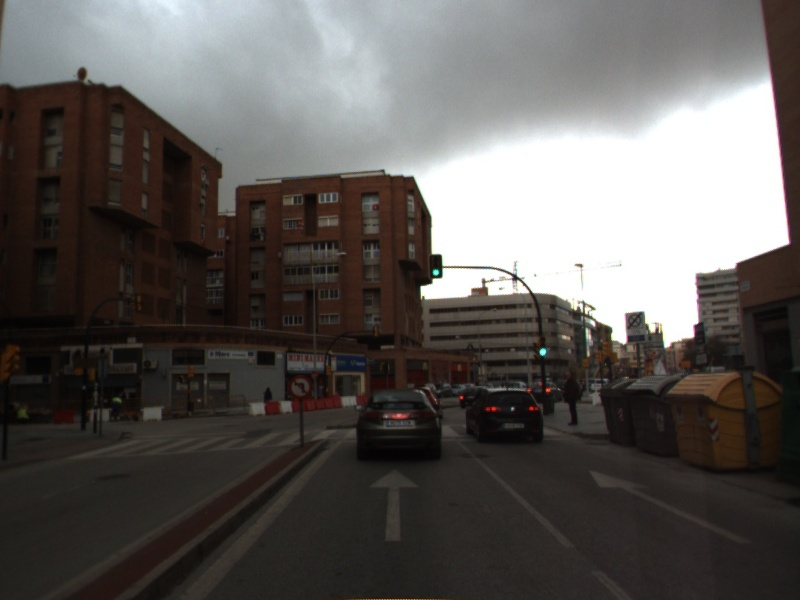STRAIGHT: (586, 467, 754, 546), (367, 467, 422, 543)
